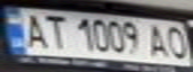0: (106, 17, 127, 54), (90, 16, 109, 53)
1: (69, 15, 93, 52)
9: (121, 19, 145, 56)
A: (18, 10, 51, 49), (145, 21, 172, 59)
O: (163, 24, 193, 61)
T: (39, 11, 69, 51)
